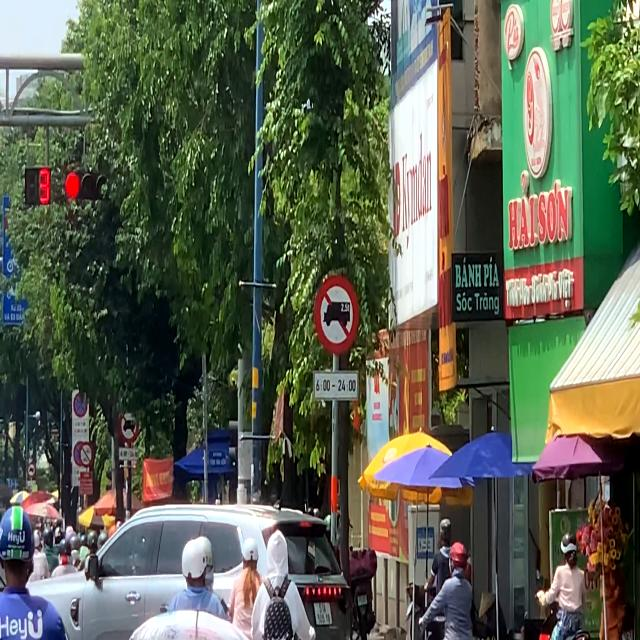P.106b: (313, 267, 357, 354)
